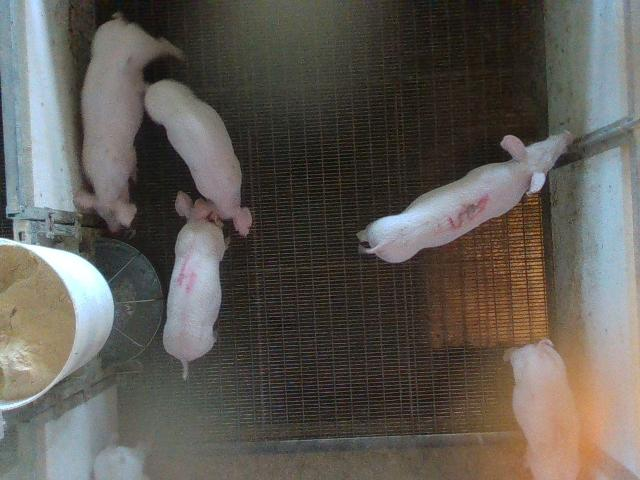pig-1: (510, 339, 580, 479)
pig-3: (358, 131, 571, 262)
pig-4: (162, 191, 226, 378)
